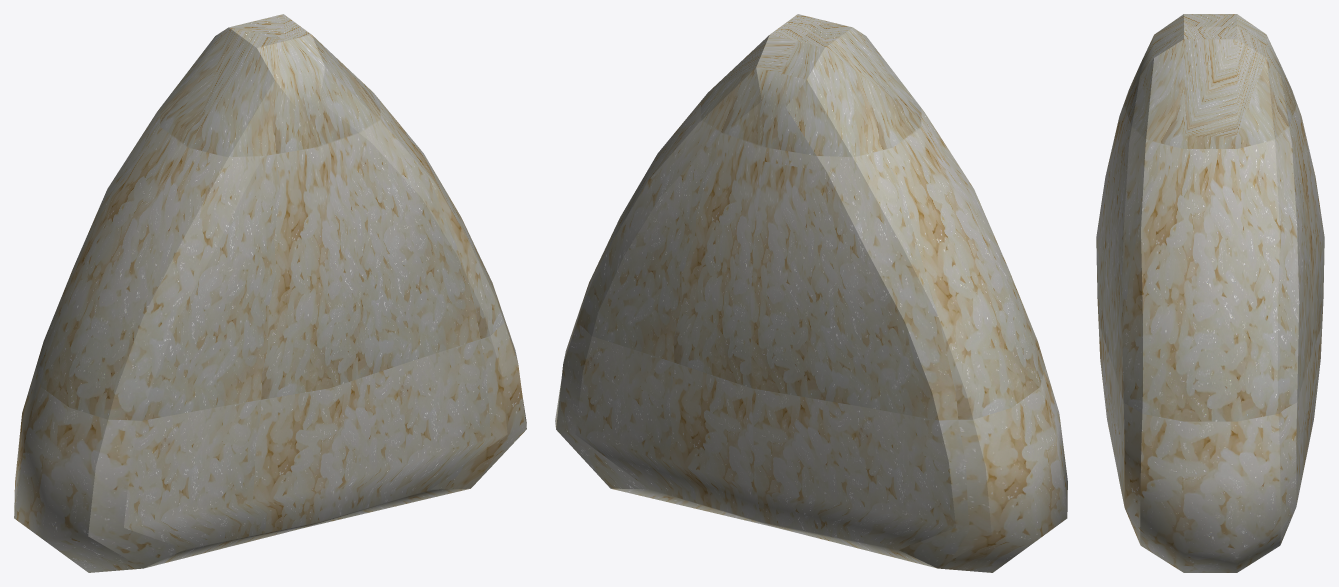
File: riceball.fbx
3 views of the same model, side by side, from view 1: azimuth 30°, elevation 25°; view 2: azimuth 150°, elevation 25°; view 3: azimuth 270°, elevation 25° (orthographic). The views are drawn at different scales.
Visible parts, largest first — view 1: pCube1; view 2: pCube1; view 3: pCube1.
Part boxes in pixels (left/top/right/bottom): pCube1: left=14, top=14, right=526, bottom=572; pCube1: left=555, top=14, right=1067, bottom=572; pCube1: left=1096, top=14, right=1324, bottom=572.
Size of the model in its own units: 11.25 by 10.74 by 4.87.
1 material, 1 textured.
